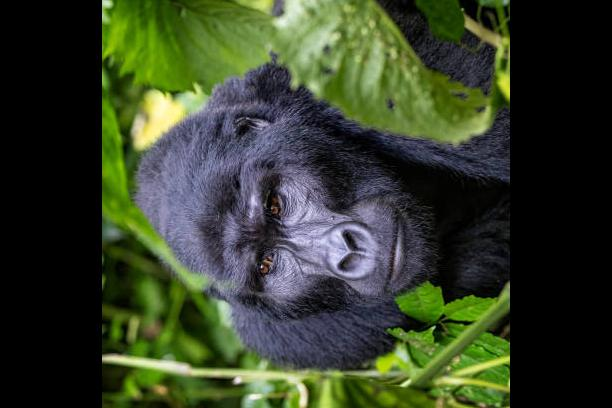goriile_montagne: (141, 0, 510, 400)
